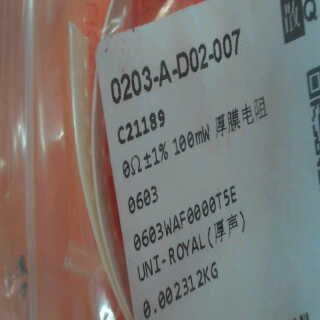0R: (121, 138, 167, 210)
